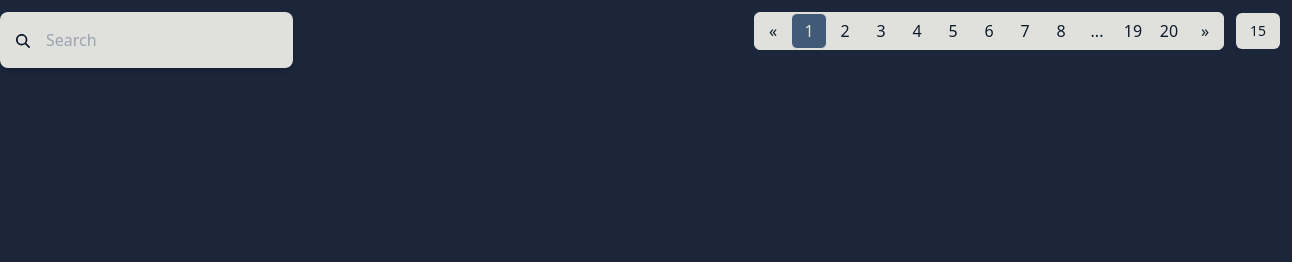
Test: TableOptions › display's num per page options
This screenshot has width=1292, height=262.
expect the text "30" is not shown: met
expect the text "50" is not shown: met
Step 1. Click the button "15" → (1258, 31), box [1236,13,1280,49]
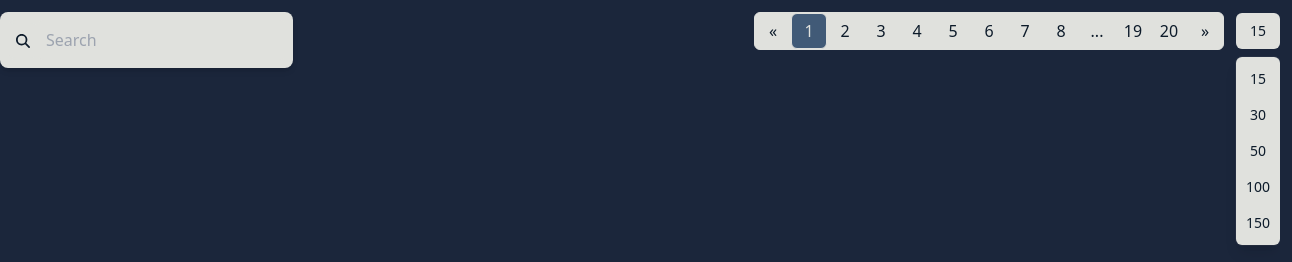
expect the menu item "30" is shown: met, box [1240,97,1276,133]
expect the menu item "50" is shown: met, box [1240,133,1276,169]
expect the menu item "100" is shown: met, box [1240,169,1276,205]
